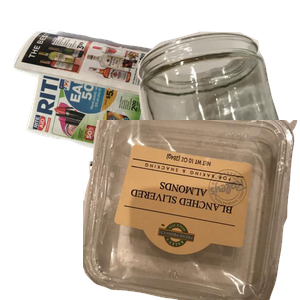glass: (135, 29, 300, 209)
paper: (11, 27, 213, 185)
plastic: (83, 120, 300, 300)
trash: (86, 158, 242, 300)
